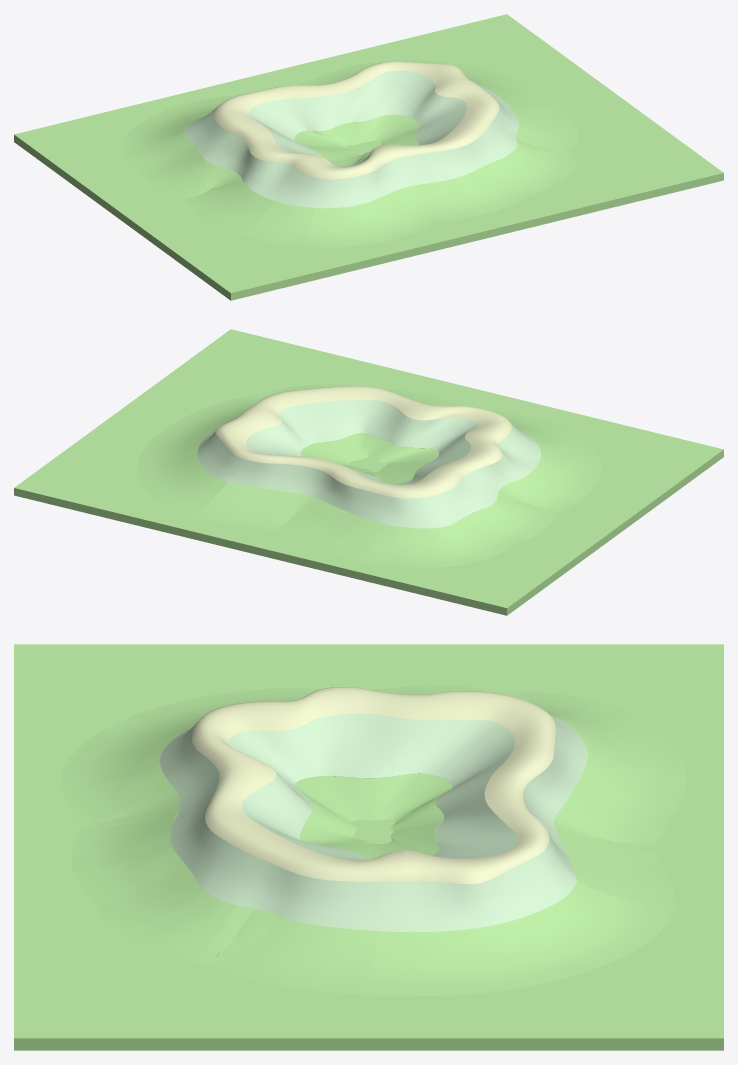
Rendered from basin.glb.
3 views of the same model, one above another, from view 1: azimuth 30°, elevation 25°; view 2: azimuth 150°, elevation 25°; view 3: azimuth 270°, elevation 25° (orthographic). The views are drawn at different scales.
Parts seen in each view (by area): view 1: 物件_1, 物件_2, 物件_3; view 2: 物件_1, 物件_2, 物件_3; view 3: 物件_1, 物件_2, 物件_3.
Boxes of the visible parts, box(x1,y1,x2,y2) form: 物件_1: box(14, 14, 723, 300); 物件_2: box(184, 70, 518, 208); 物件_3: box(214, 61, 499, 179); 物件_1: box(14, 329, 723, 615); 物件_2: box(197, 400, 541, 528); 物件_3: box(215, 386, 511, 498); 物件_1: box(14, 644, 723, 1050); 物件_2: box(159, 713, 587, 932); 物件_3: box(192, 687, 555, 884).
Size of the model in its own units: 0.0491 by 0.00445 by 0.0374.
